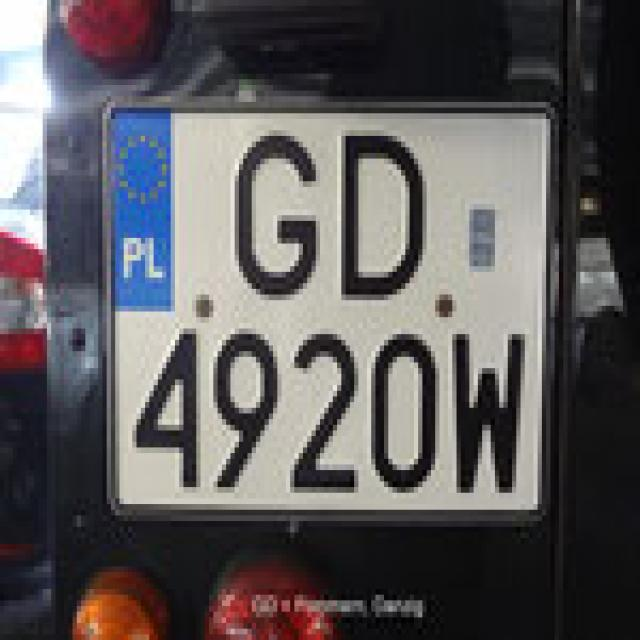pl_license_plate: (102, 96, 538, 510)
